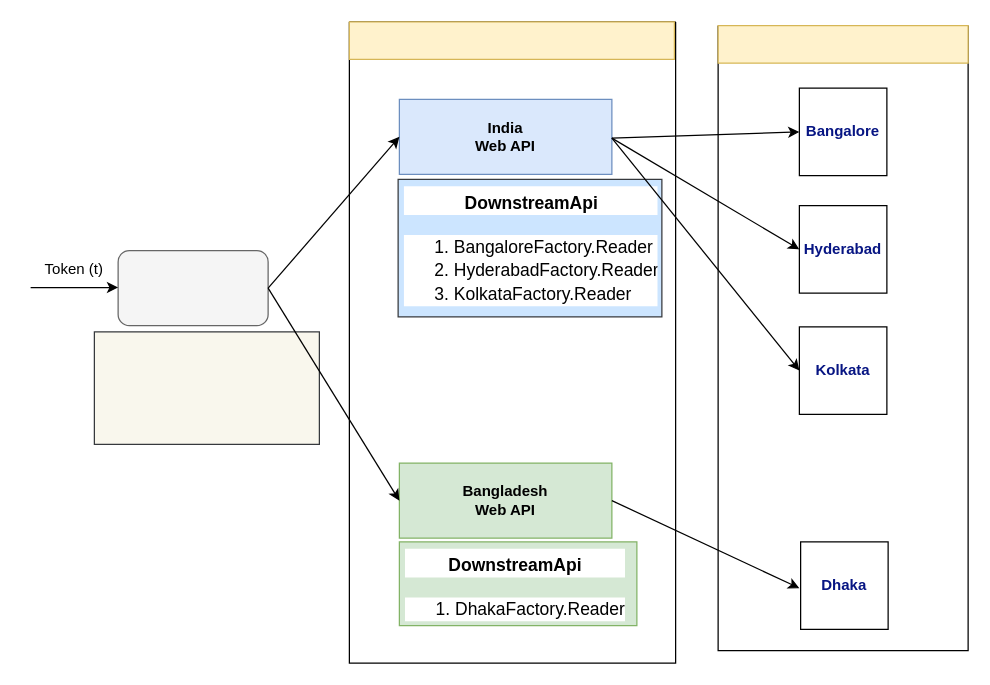
Image size: 990x685. Some labels were removed from this diagram. The centre of each missing label's shape, as x and y in pixels:
CountryHead: point 511,40
DownstreamApi India.Reader Bangladesh.Reader: point 206,387
Factories: point 842,43
GlobalView Web APP: point 192,287
